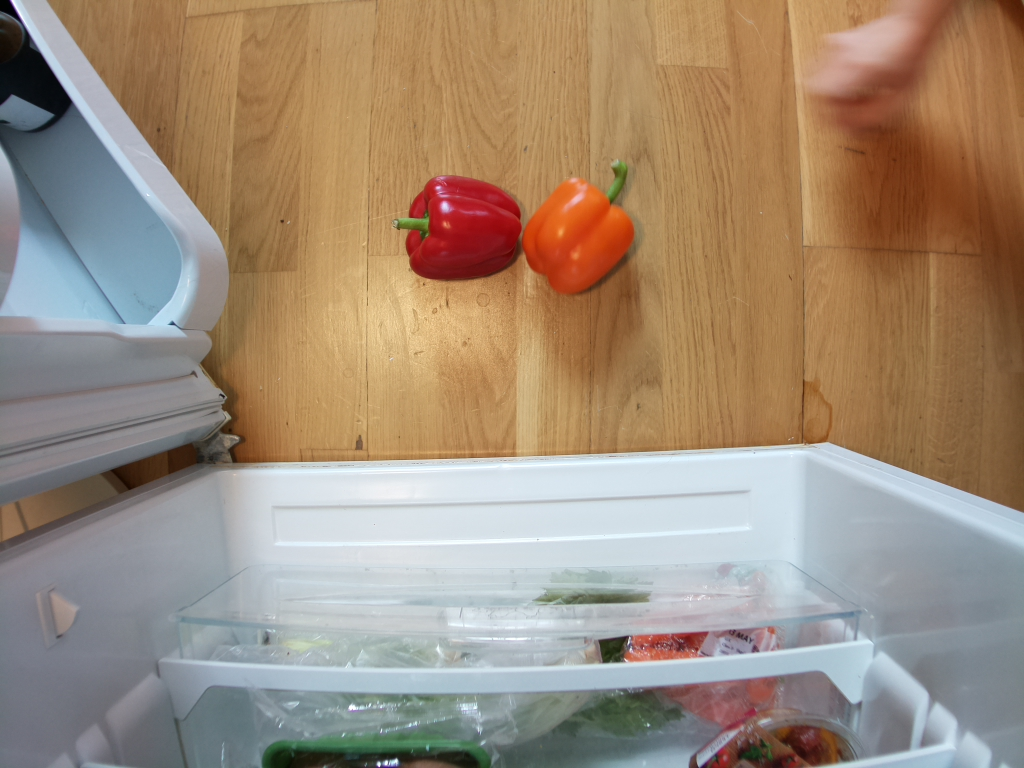pepper: (525, 158, 636, 296), (396, 174, 523, 281)
